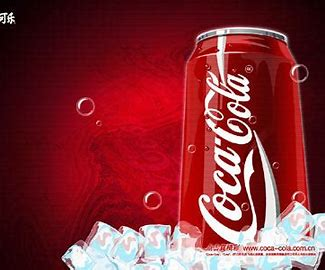Coke: (175, 23, 312, 261)
